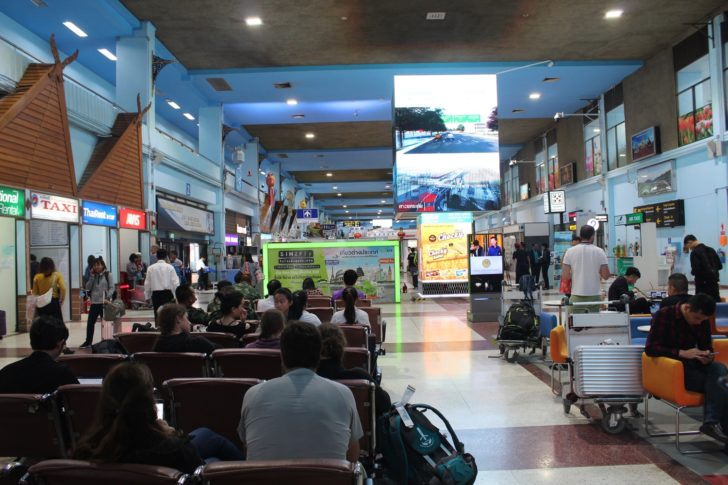backpack: (376, 398, 481, 485), (500, 300, 542, 341)
bag: (102, 298, 126, 318), (517, 270, 536, 294), (31, 291, 56, 306)
luggage: (567, 342, 653, 403), (99, 296, 123, 345)
people: (69, 362, 220, 473), (241, 327, 356, 463), (650, 295, 728, 452), (2, 311, 83, 389), (567, 220, 605, 318), (682, 231, 728, 301), (25, 254, 68, 328), (139, 249, 179, 324), (79, 253, 111, 345), (609, 264, 650, 320)
